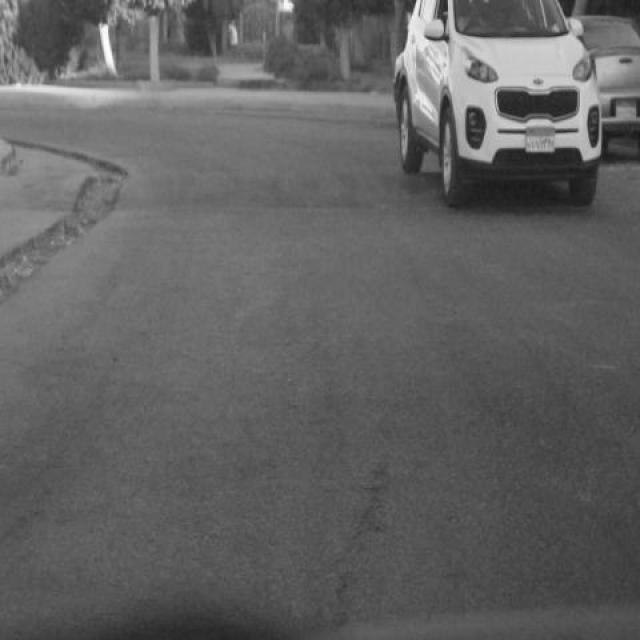Pothole: (0, 171, 109, 301)
Unmarked Bump: (117, 168, 439, 216), (596, 168, 639, 220)
